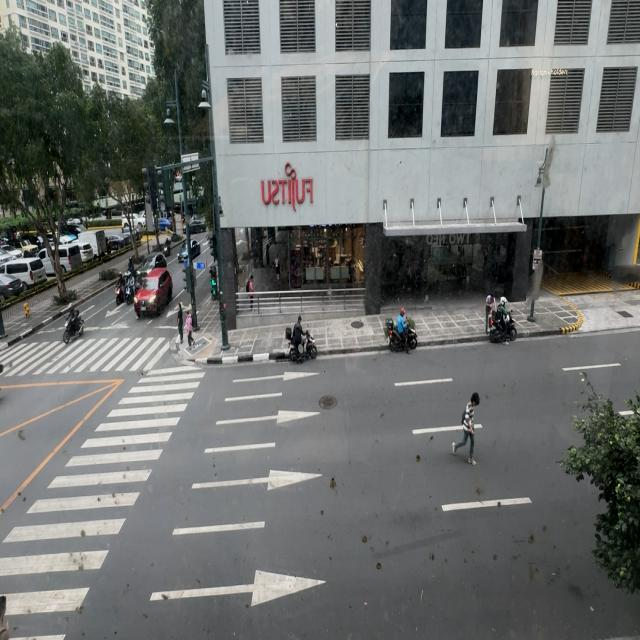jaywalking: (451, 388, 481, 463)
waiting: (184, 309, 194, 347), (177, 303, 184, 344)
